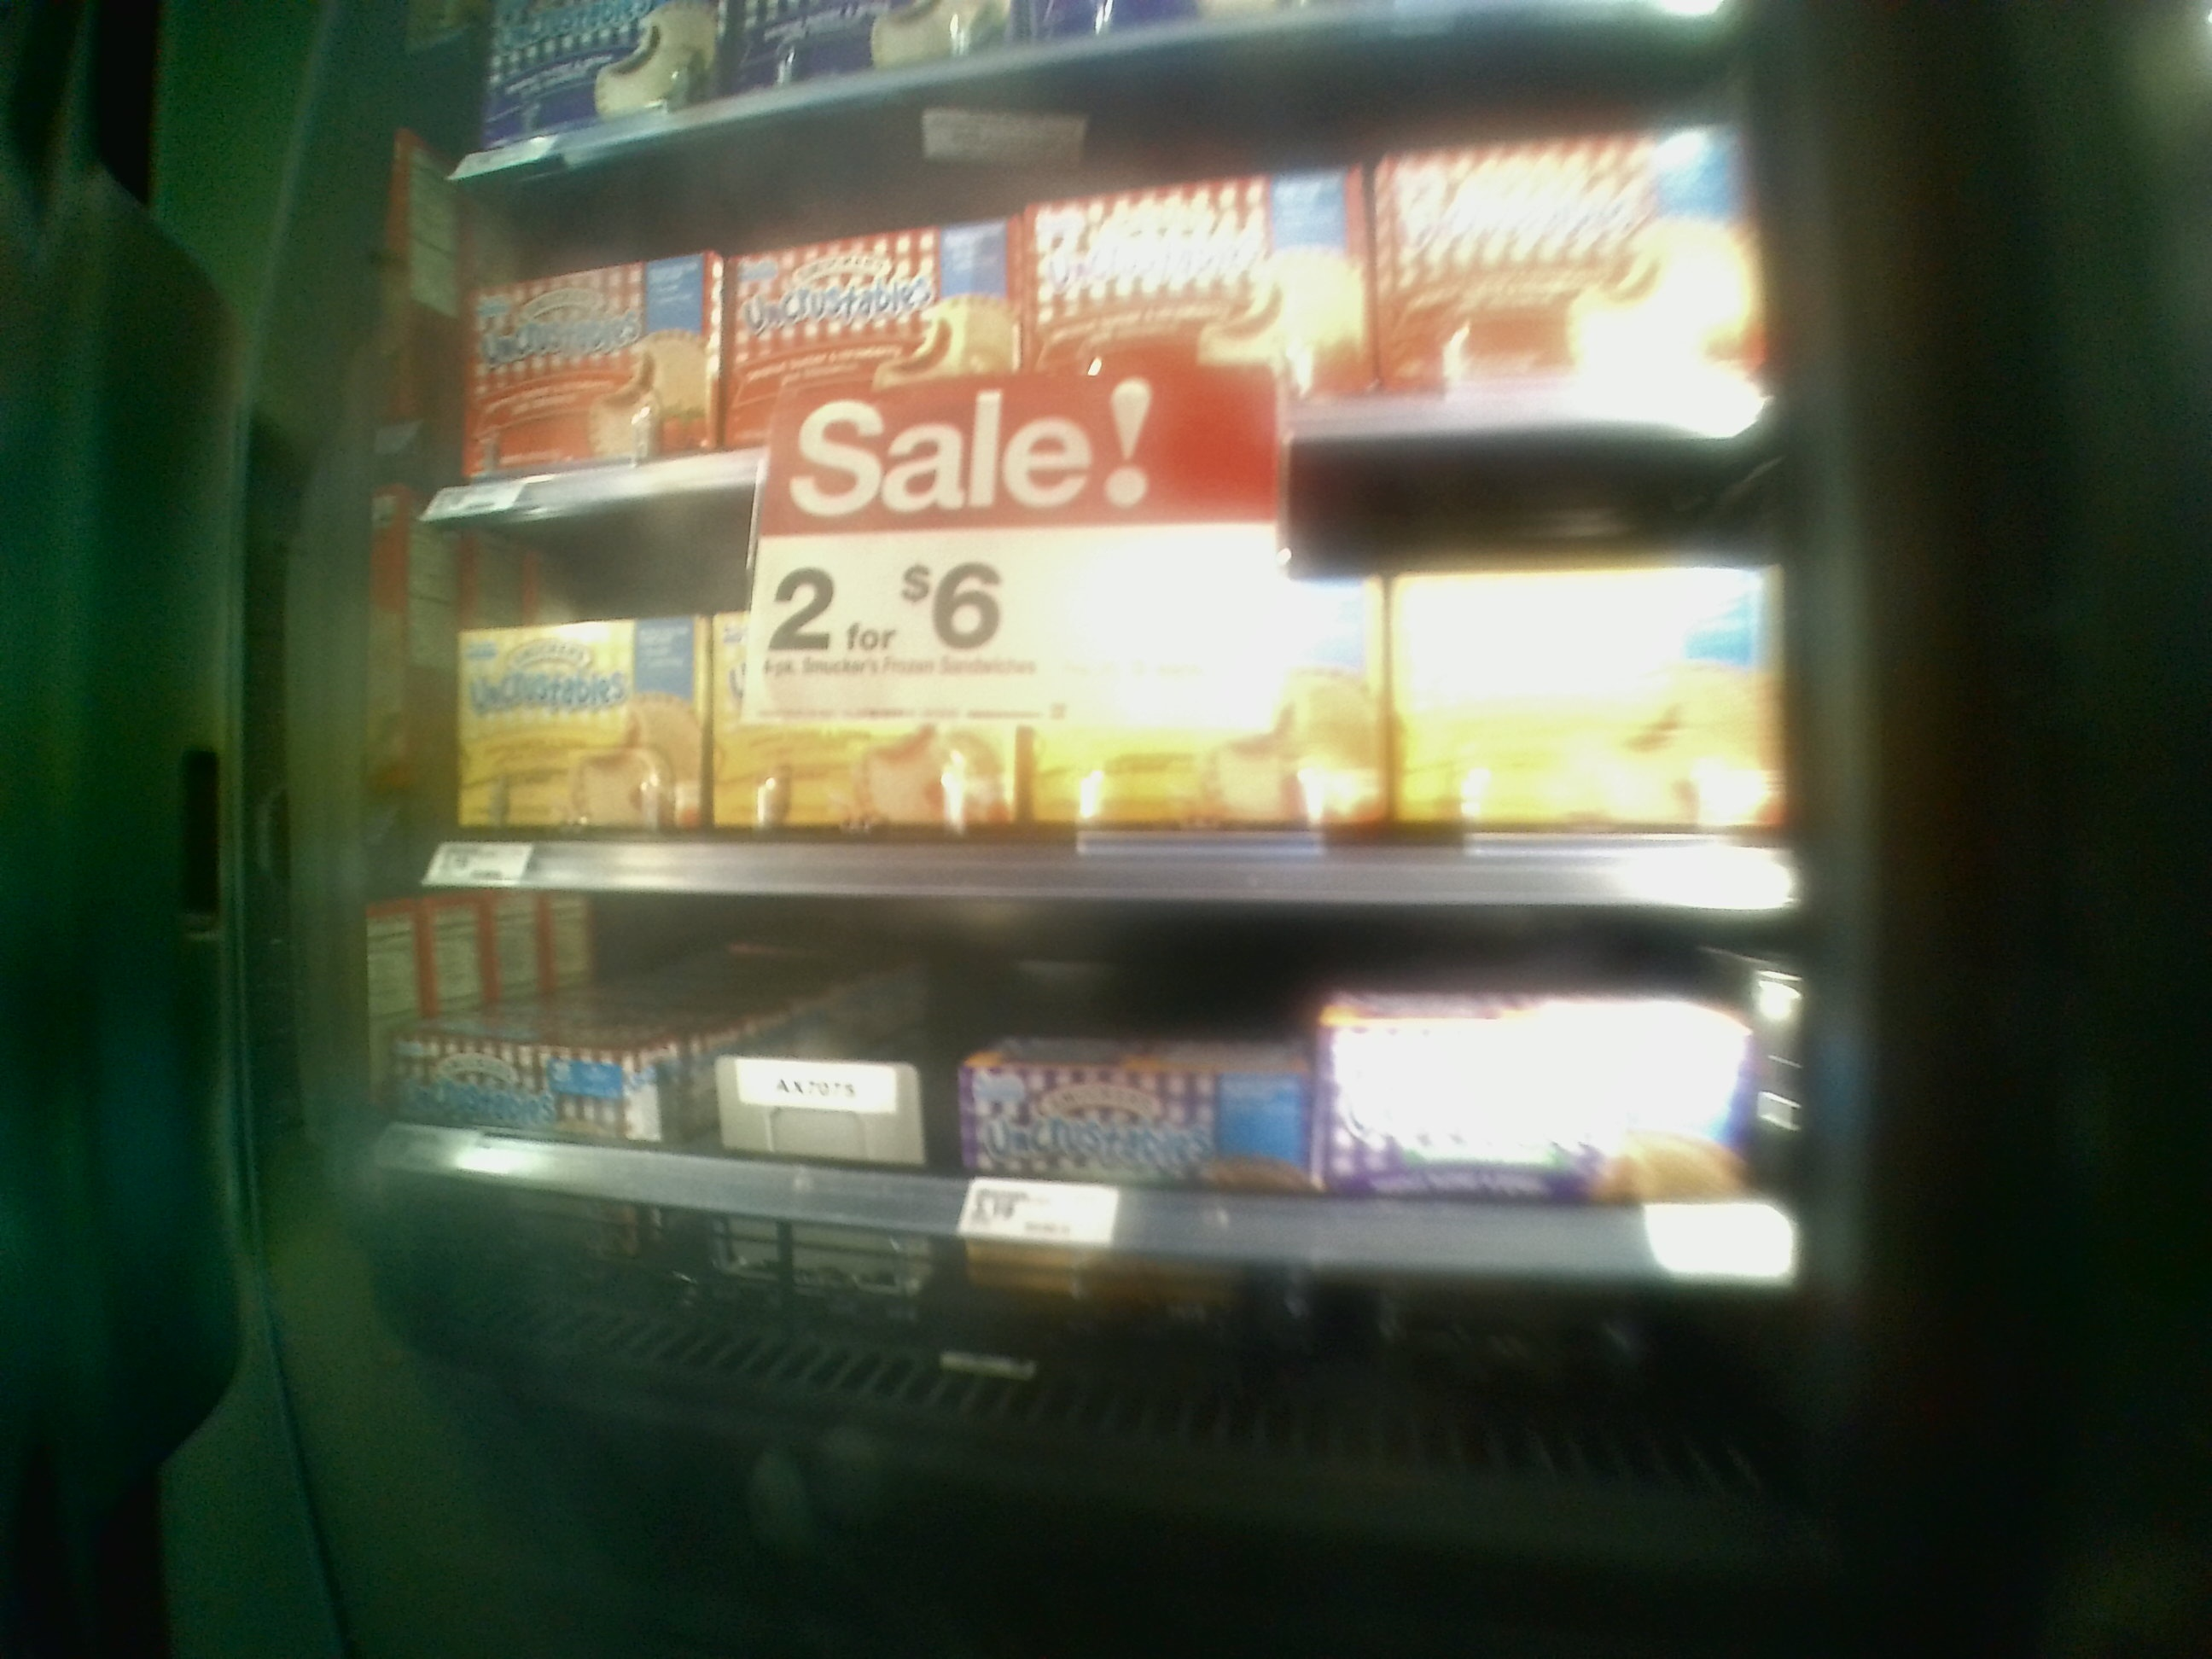shelf: (355, 884, 1797, 1460), (380, 507, 1780, 920), (402, 159, 1784, 474)
